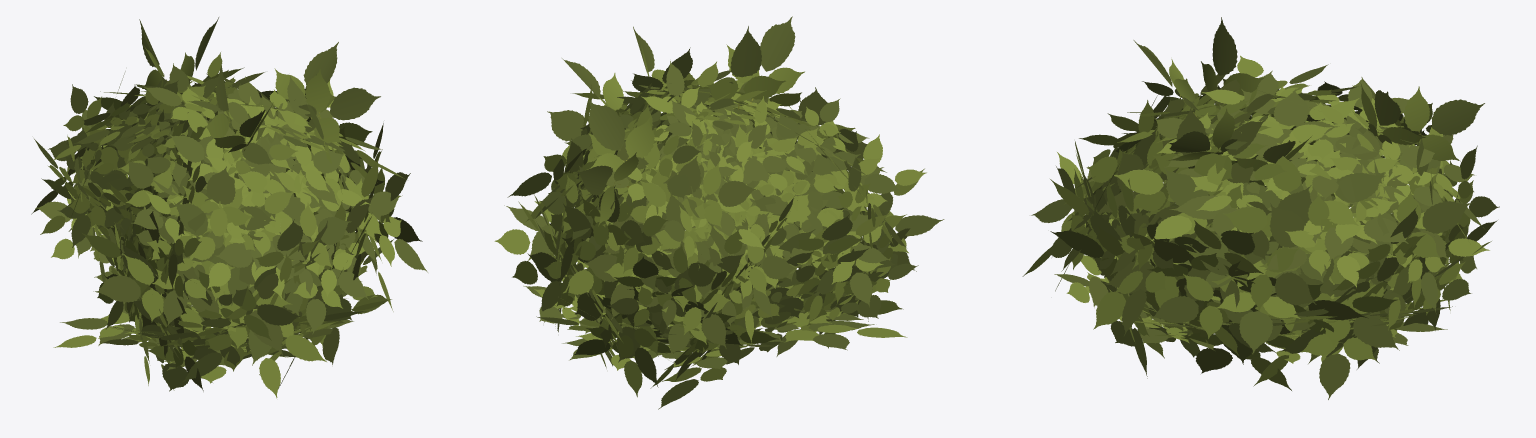
Rendered from Blackberry_Bush_3a.fbx.
3 renders of one model, left to right at view 1: azimuth 30°, elevation 25°; view 2: azimuth 150°, elevation 25°; view 3: azimuth 270°, elevation 25°, orthographic. The views are drawn at different scales.
Visible parts, largest first — view 1: Blackberry_Bush_3a; view 2: Blackberry_Bush_3a; view 3: Blackberry_Bush_3a.
Boxes of the visible parts, box(x1,y1,x2,y2) form: Blackberry_Bush_3a: box(31, 17, 427, 398); Blackberry_Bush_3a: box(494, 16, 944, 409); Blackberry_Bush_3a: box(1022, 17, 1499, 399).
Bounding box in the file's own units: 137 × 111 × 146.
1 material, 1 textured.
